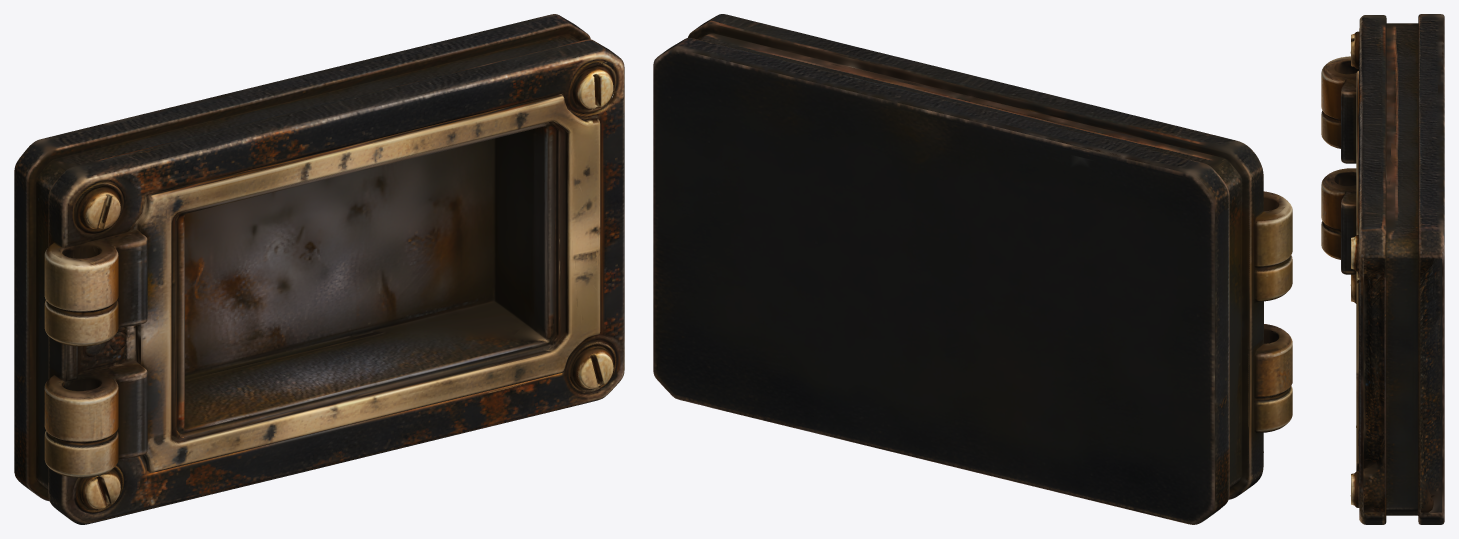
File: secret_hole.glb
3 renders of one model, left to right at view 1: azimuth 30°, elevation 25°; view 2: azimuth 150°, elevation 25°; view 3: azimuth 270°, elevation 25°, orthographic. The views are drawn at different scales.
Parts seen in each view (by area): view 1: Mesh_0; view 2: Mesh_0; view 3: Mesh_0.
Part boxes in pixels (bbox=[...]): Mesh_0: bbox=[14, 14, 624, 524]; Mesh_0: bbox=[653, 14, 1292, 524]; Mesh_0: bbox=[1321, 14, 1444, 524].
Size of the model in its own units: 1.05 by 0.6085 by 0.2284.
Materials: 1 (1 with a texture image).
